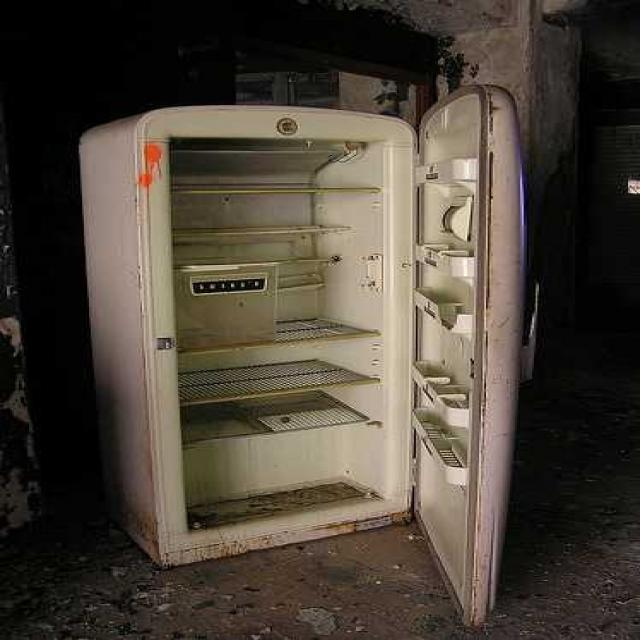refrigerator: (136, 103, 491, 552)
